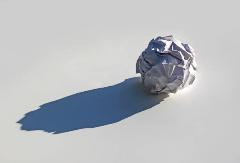paper: (135, 34, 197, 94)
